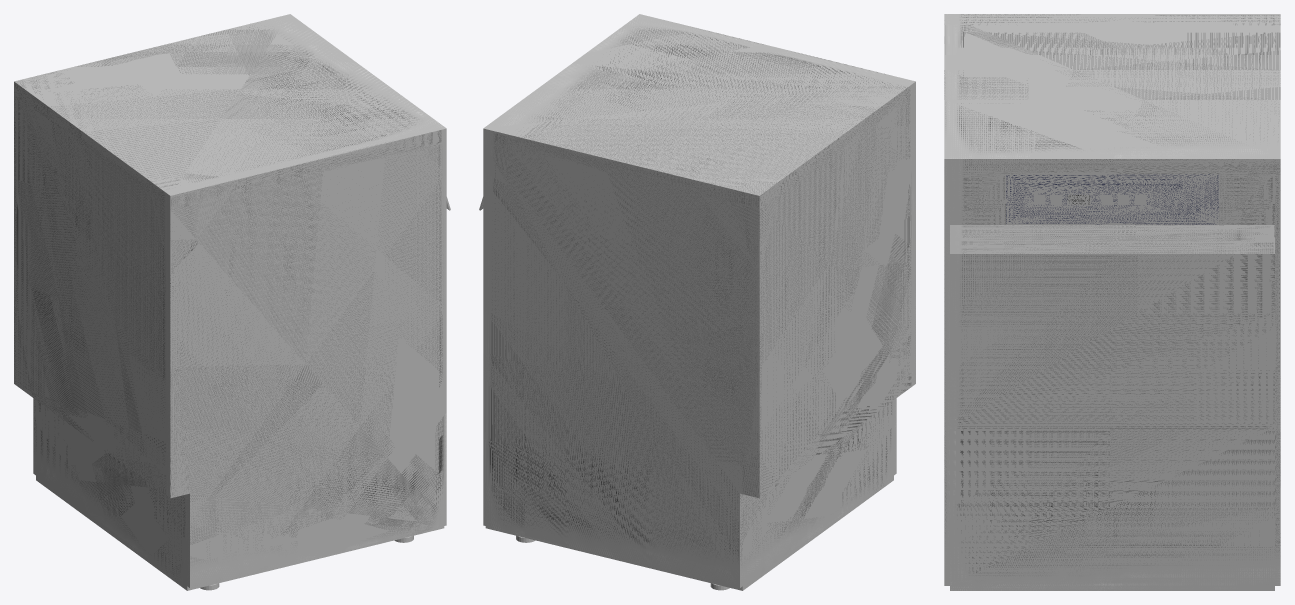
3 renders of one model, left to right at view 1: azimuth 30°, elevation 25°; view 2: azimuth 150°, elevation 25°; view 3: azimuth 270°, elevation 25°, orthographic. The views are drawn at different scales.
Visible parts, largest first — view 1: mesh1_mesh1-geometry; view 2: mesh1_mesh1-geometry; view 3: mesh1_mesh1-geometry.
Boxes of the visible parts, x1,y1,x2,y2 form: mesh1_mesh1-geometry: (14, 14, 450, 590); mesh1_mesh1-geometry: (479, 14, 915, 590); mesh1_mesh1-geometry: (944, 14, 1280, 590).
Size of the model in its own units: 0.5102 by 0.708 by 0.4883.
